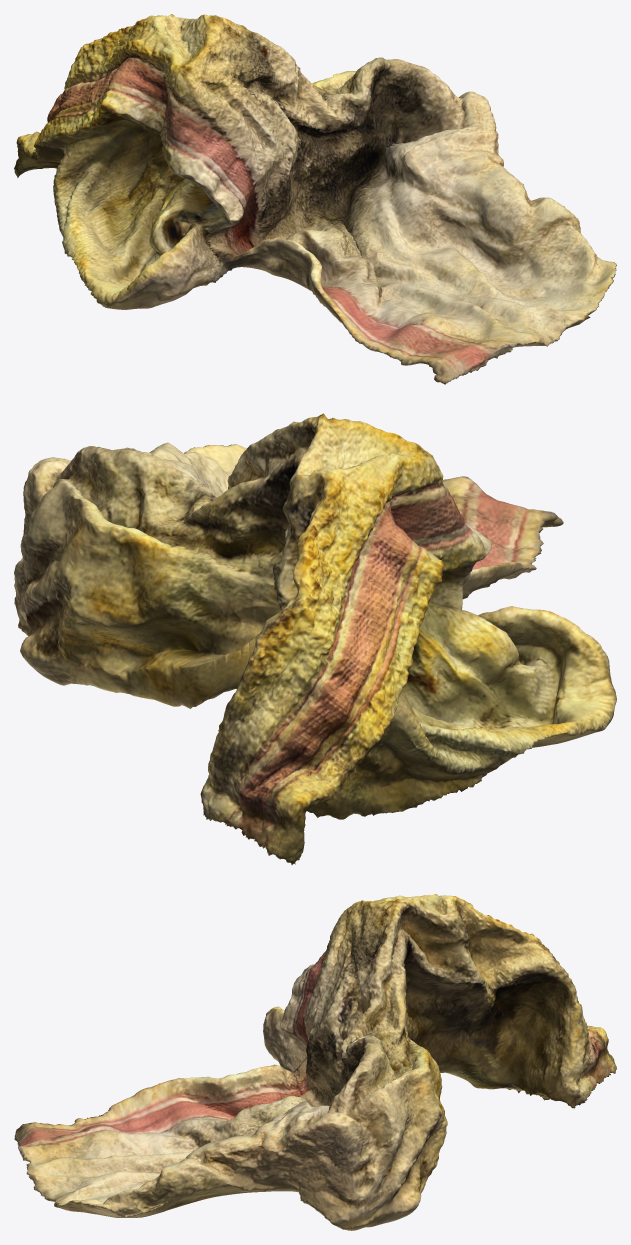
The model's file is firefighter_vision_cleaning_cloth.glb.
The picture shows the model from 3 angles, top to bottom: view 1: azimuth 30°, elevation 25°; view 2: azimuth 150°, elevation 25°; view 3: azimuth 270°, elevation 25°; orthographic projection. The views are drawn at different scales.
Parts seen in each view (by area): view 1: Object_3, Object_2, Object_4; view 2: Object_3, Object_2, Object_4; view 3: Object_3, Object_2, Object_4.
Boxes of the visible parts, x1=… form: Object_3: x1=14, y1=14, x2=616, y2=370; Object_2: x1=14, y1=14, x2=615, y2=384; Object_4: x1=16, y1=14, x2=616, y2=381; Object_3: x1=14, y1=413, x2=616, y2=861; Object_2: x1=14, y1=419, x2=616, y2=864; Object_4: x1=14, y1=418, x2=614, y2=858; Object_3: x1=18, y1=894, x2=608, y2=1226; Object_2: x1=14, y1=894, x2=616, y2=1230; Object_4: x1=17, y1=895, x2=616, y2=1227.
Bounding box in the file's own units: 0.2913 × 0.1659 × 0.383.
Materials: 1 (1 with a texture image).
